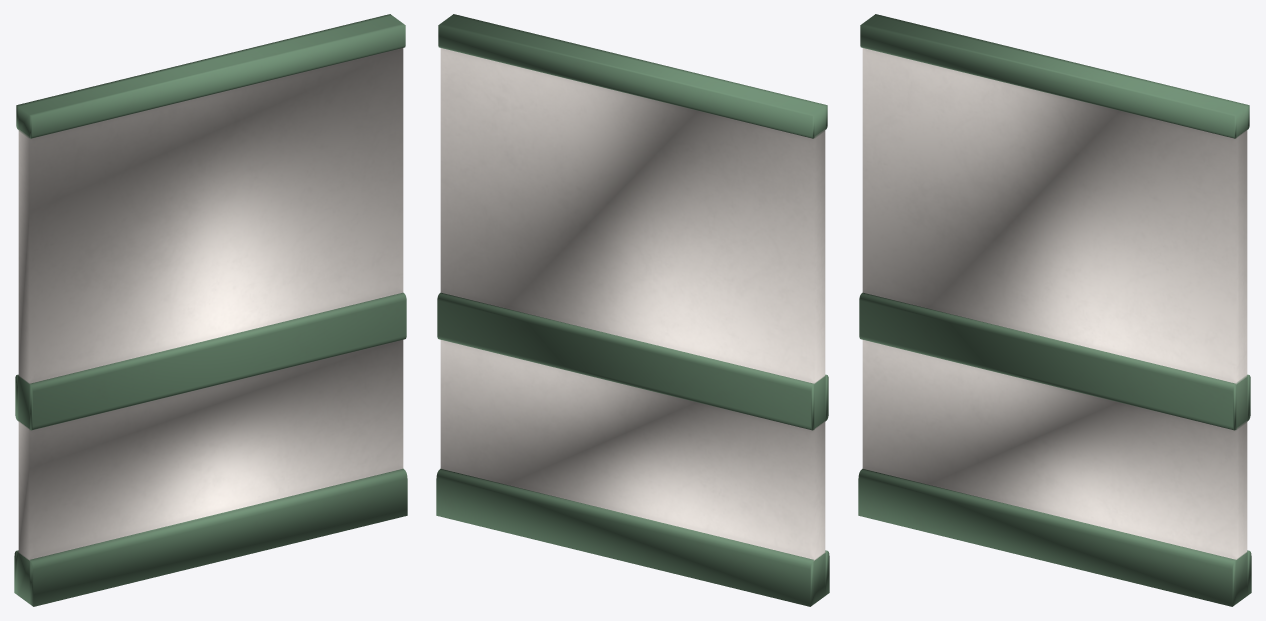
File: Tile_Wall.glb
3 renders of one model, left to right at view 1: azimuth 30°, elevation 25°; view 2: azimuth 150°, elevation 25°; view 3: azimuth 330°, elevation 25°, orthographic.
Visible parts, largest first — view 1: Tile_Wall; view 2: Tile_Wall; view 3: Tile_Wall.
Boxes of the visible parts, x1,y1,x2,y2 form: Tile_Wall: [14, 14, 407, 606]; Tile_Wall: [436, 14, 829, 606]; Tile_Wall: [858, 14, 1251, 606].
Bounding box in the file's own units: 2 × 2.5 × 0.1769.
Materials: 1 (1 with a texture image).
